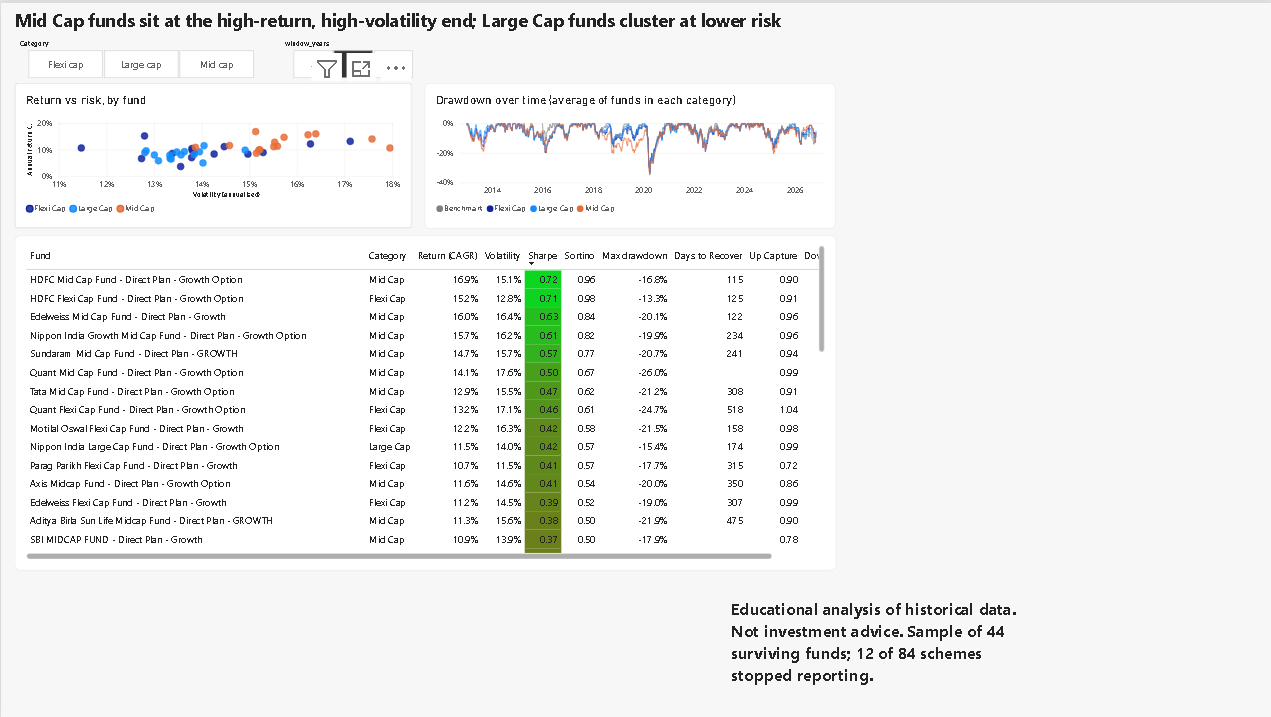

The page's visual inventory and layout, read from the dashboard file:
{"tool":"powerbi","page":{"name":"Fund Explorer","canvas":[1920,1080],"ordinal":1},"visuals":[{"type":"slicer","fields":{"Values":["dim_category.Category"]},"box":[20,55,380,60],"z":0},{"type":"slicer","fields":{"Values":["fact_metrics.window_years"]},"box":[420,55,220,60],"z":1000},{"type":"scatterChart","title":"Return vs risk, by fund","fields":{"Category":["fact_metrics.scheme_name"],"Series":["fact_metrics.category"],"X":["Avg(fact_metrics.volatility)"],"Y":["Avg(fact_metrics.cagr)"]},"box":[119.4,130.3,655.1,220.8],"z":2000},{"type":"lineChart","title":"Drawdown over time (average of funds in each category)","fields":{"Category":["fact_drawdown_weekly.date"],"Series":["fact_drawdown_weekly.category"],"Y":["Avg(fact_drawdown_weekly.drawdown)"]},"box":[823.4,114,669.6,226.2],"z":3000},{"type":"tableEx","fields":{"Values":["fact_metrics.scheme_name","fact_metrics.category","fact_metrics.cagr","fact_metrics.volatility","fact_metrics.sharpe","fact_metrics.sortino","fact_metrics.max_drawdown","fact_metrics.days_to_recover","fact_metrics.up_capture","fact_metrics.down_capture"]},"box":[20.8,350.9,1239.6,505.7],"z":4000},{"type":"textbox","box":[20,8,1240,45],"z":4001},{"type":"textbox","box":[1101.9,898.4,448.7,181.6],"z":4002}]}

Visuals, with their boxes in screenshot pixels (x1, y1, x2, y2), scaled from the page's 1920x1080 canvas onto the 1271x717 screenshot:
slicer - dim_category.Category: (left=13, top=37, right=265, bottom=76)
slicer - fact_metrics.window_years: (left=278, top=37, right=424, bottom=76)
"Return vs risk, by fund" scatterChart: (left=79, top=87, right=513, bottom=233)
"Drawdown over time (average of funds in each category)" lineChart: (left=545, top=76, right=988, bottom=226)
tableEx - fact_metrics.scheme_name x fact_metrics.category: (left=14, top=233, right=834, bottom=569)
textbox: (left=13, top=5, right=834, bottom=35)
textbox: (left=729, top=596, right=1026, bottom=716)
